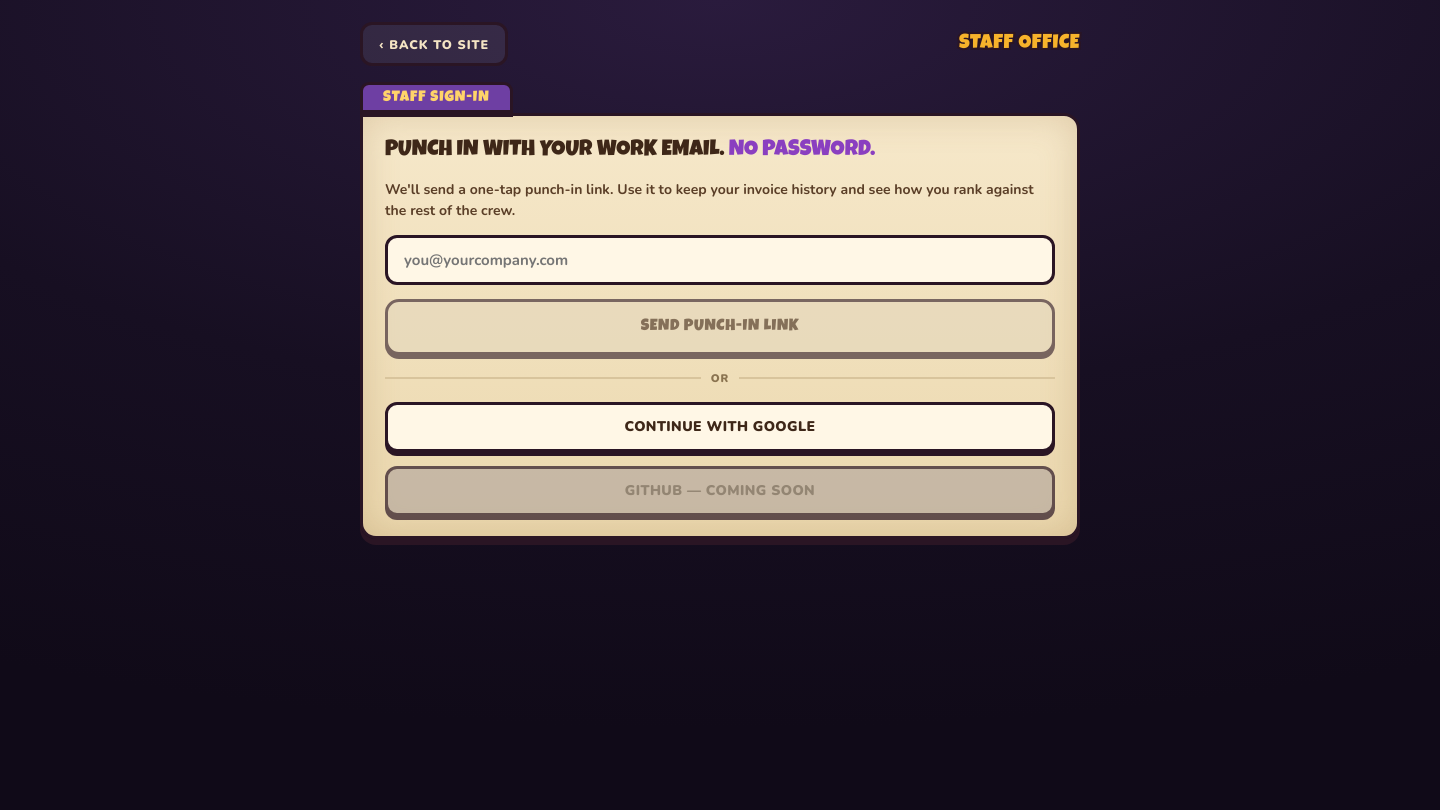
Test case: Staff Office, signed out › shows why a link could not be sent and lets you try again
In the field with placeholder "you@yourcompany.com": (720, 260) [385,235,1055,285], type "ann@example.com"
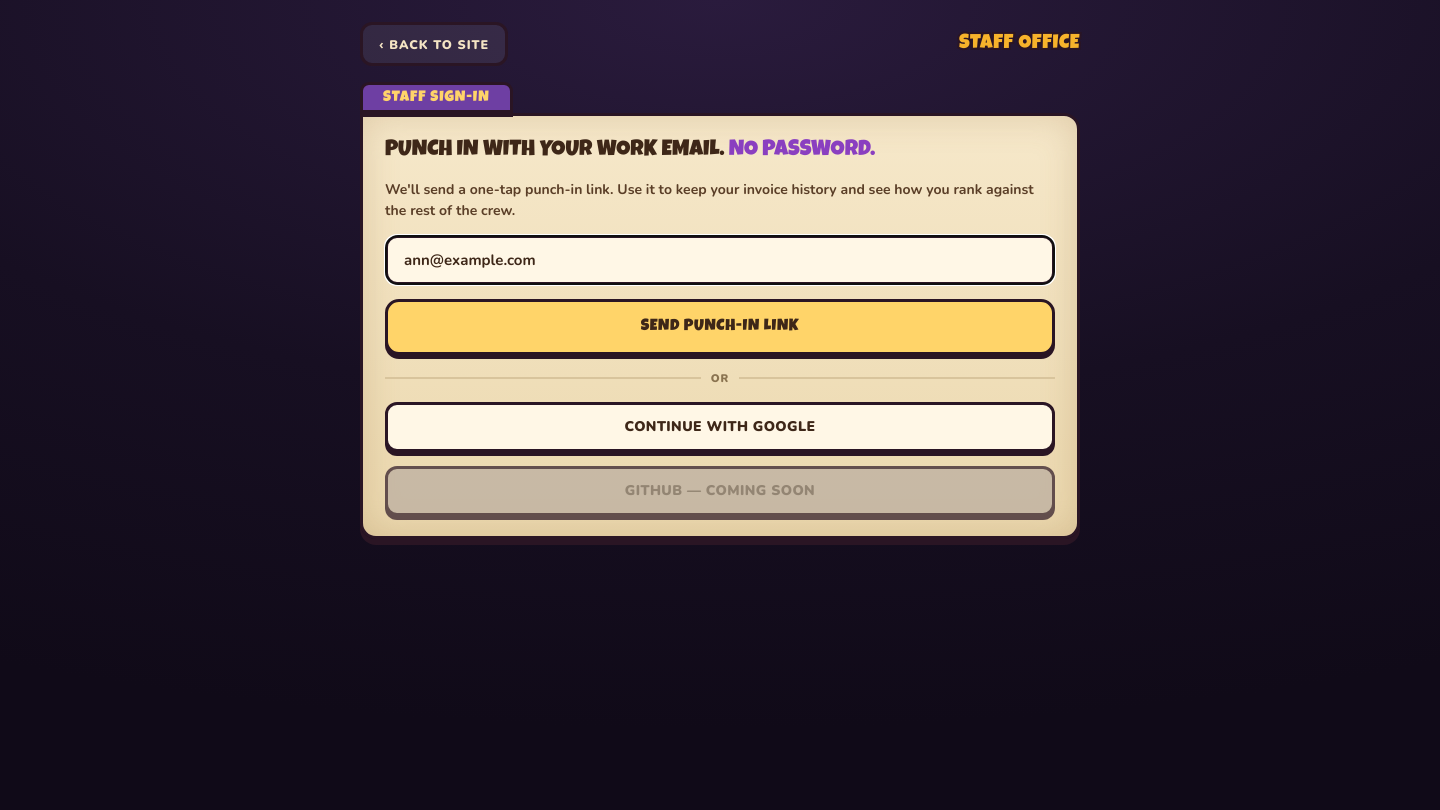
Click the button "SEND PUNCH-IN LINK": click(720, 327) [385,299,1055,355]
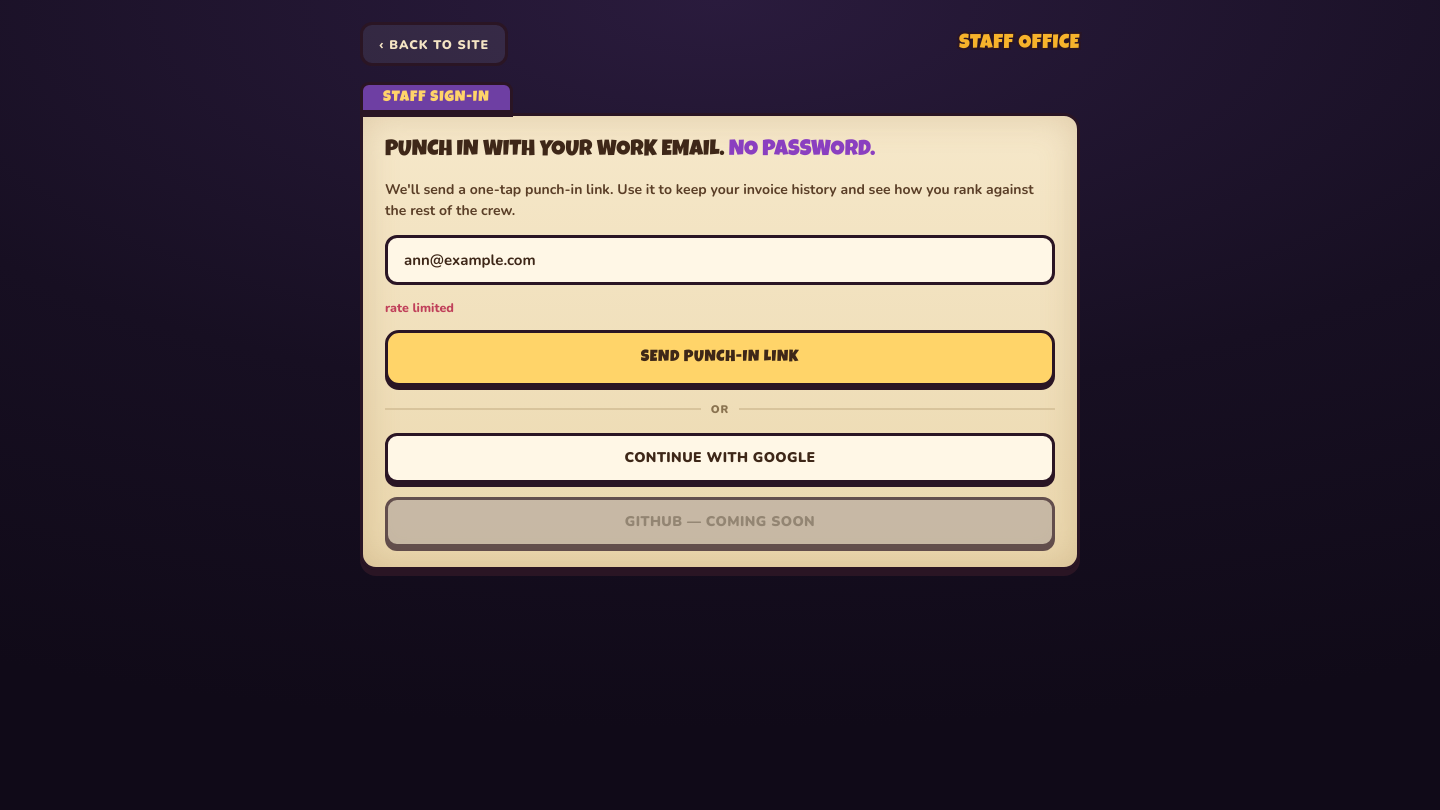
Check: the button "SEND PUNCH-IN LINK" is enabled, box [385,330,1055,386]
Check: the text "rate limited" is shown, box [385,299,454,316]
